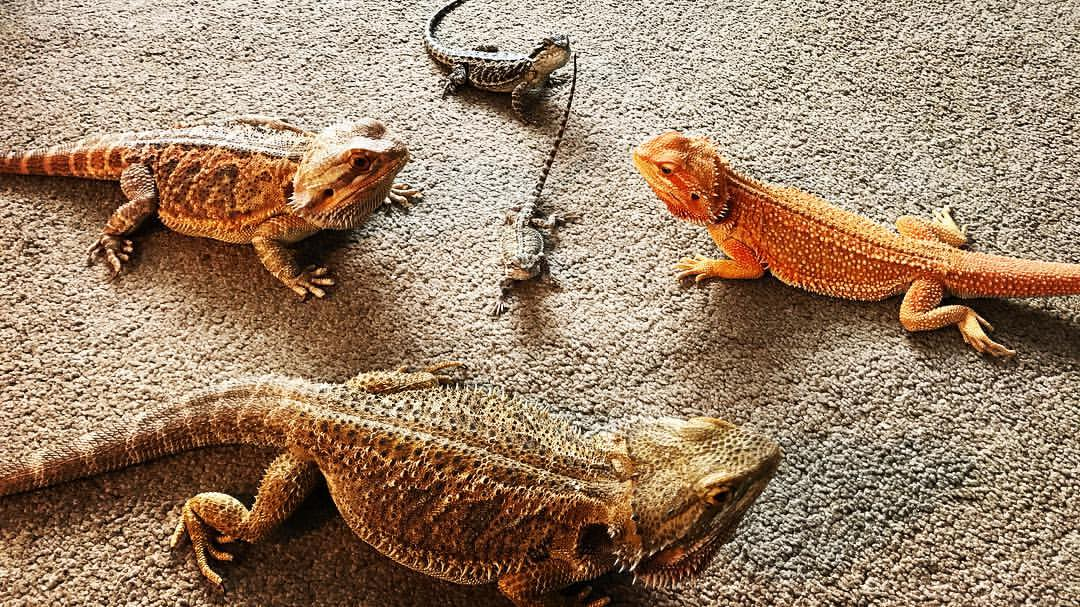bearded: (1, 363, 781, 606), (630, 125, 1080, 359), (1, 113, 414, 298), (491, 57, 585, 311), (422, 1, 568, 116)
